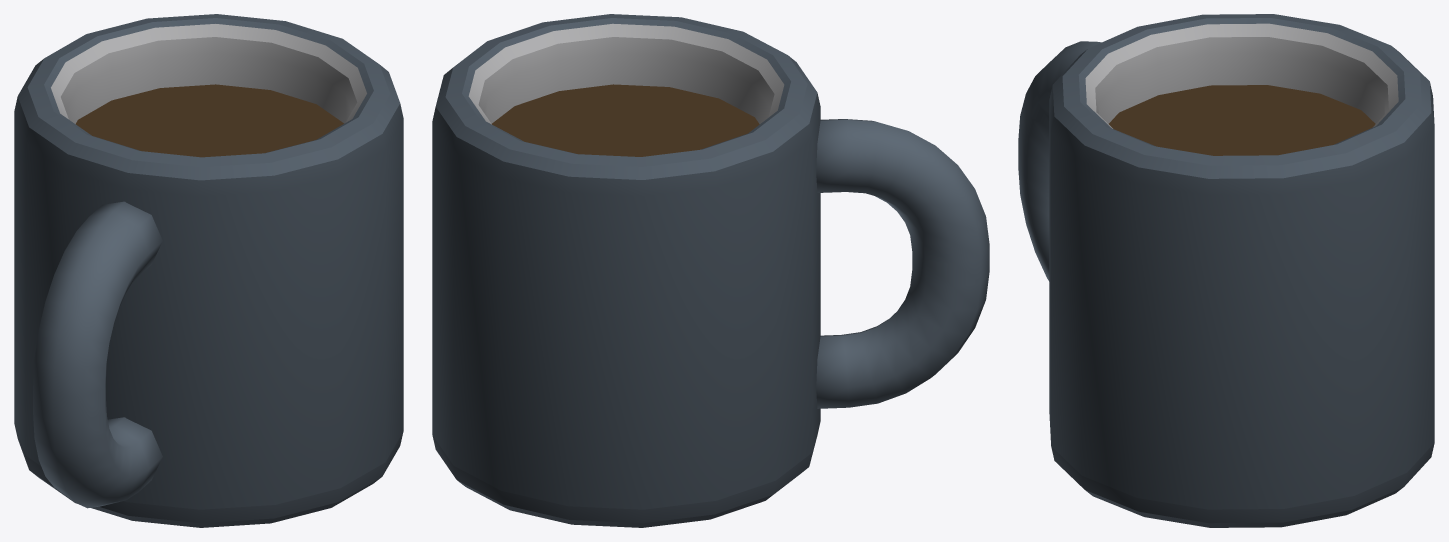
The model's file is cup.glb.
3 renders of one model, left to right at view 1: azimuth 30°, elevation 25°; view 2: azimuth 150°, elevation 25°; view 3: azimuth 270°, elevation 25°, orthographic.
Visible parts, largest first — view 1: cup; view 2: cup; view 3: cup.
Part boxes in pixels (x1=…): cup: x1=14, y1=14, x2=403, y2=527; cup: x1=432, y1=14, x2=989, y2=527; cup: x1=1018, y1=14, x2=1434, y2=527.
Size of the model in its own units: 0.1713 by 0.1393 by 0.1427.
